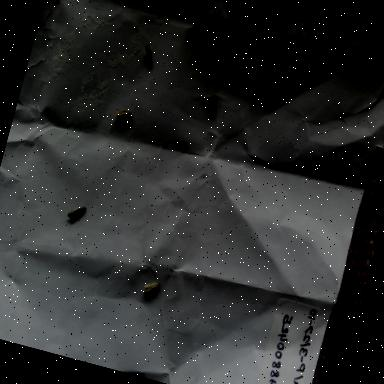pbw: (198, 93, 222, 127), (60, 200, 90, 226), (134, 42, 160, 72), (111, 103, 137, 129), (140, 276, 167, 300)
